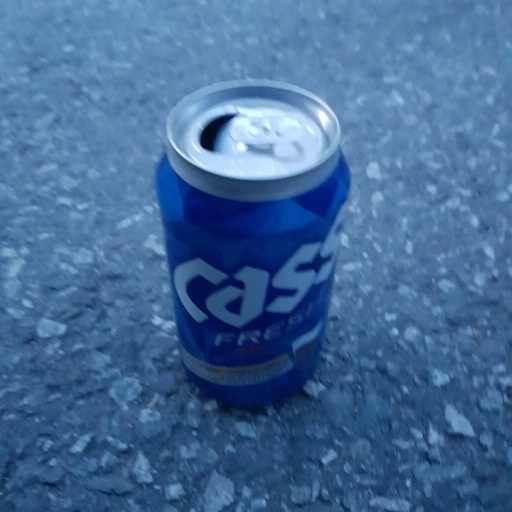Metal_0: (145, 75, 353, 411)
